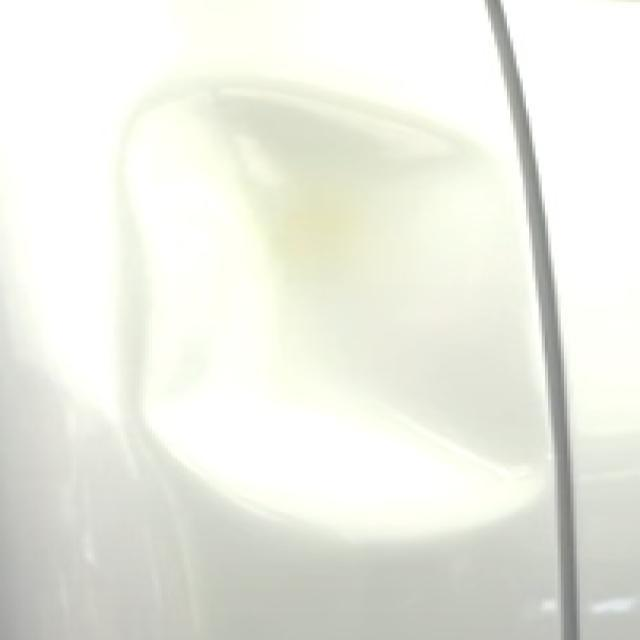dent: (127, 90, 555, 540)
